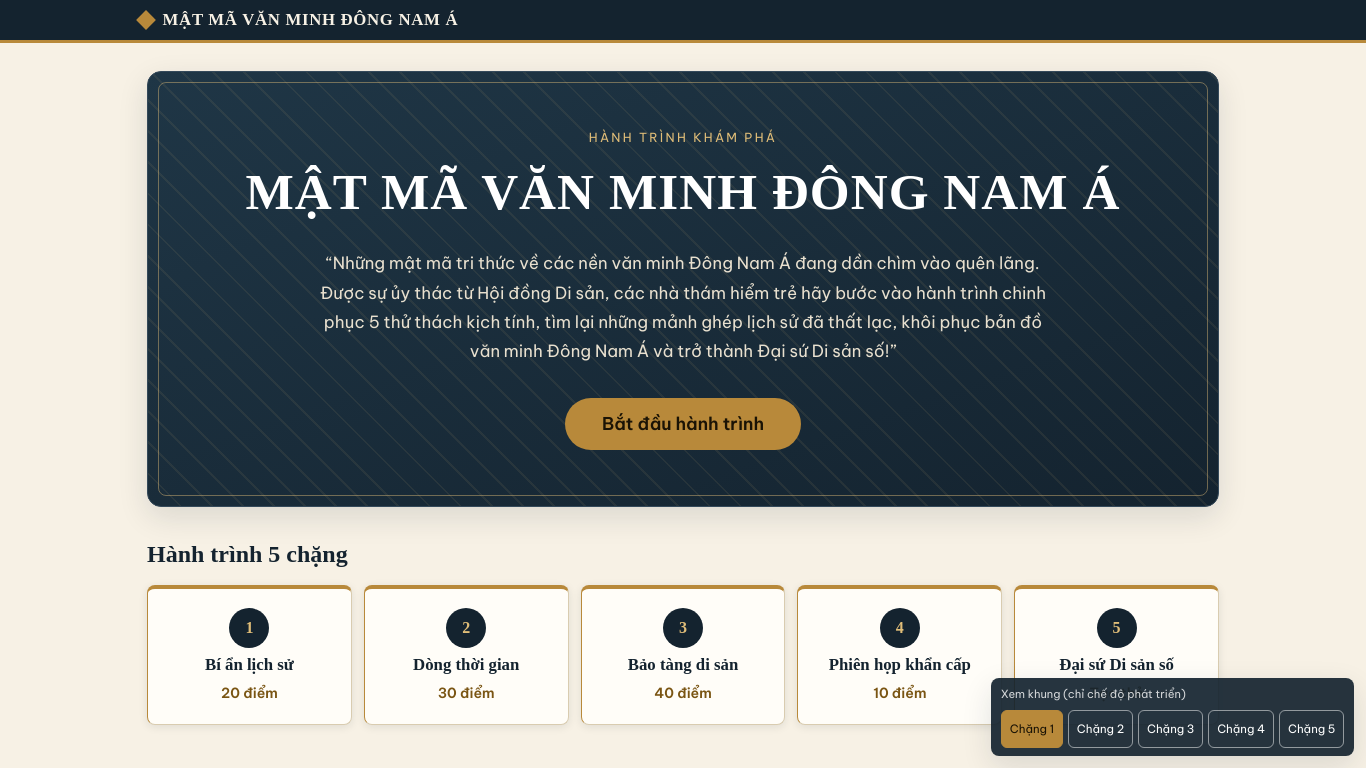
Test case: Chặng 5 - Bước 2 và kiểm tra hợp lệ › để trống: hiện lỗi mật mã, lỗi hành động và thông báo chung
Click the button "Chặng 5" at (1312, 729), box [1279,710,1344,748]
(page scrolled)
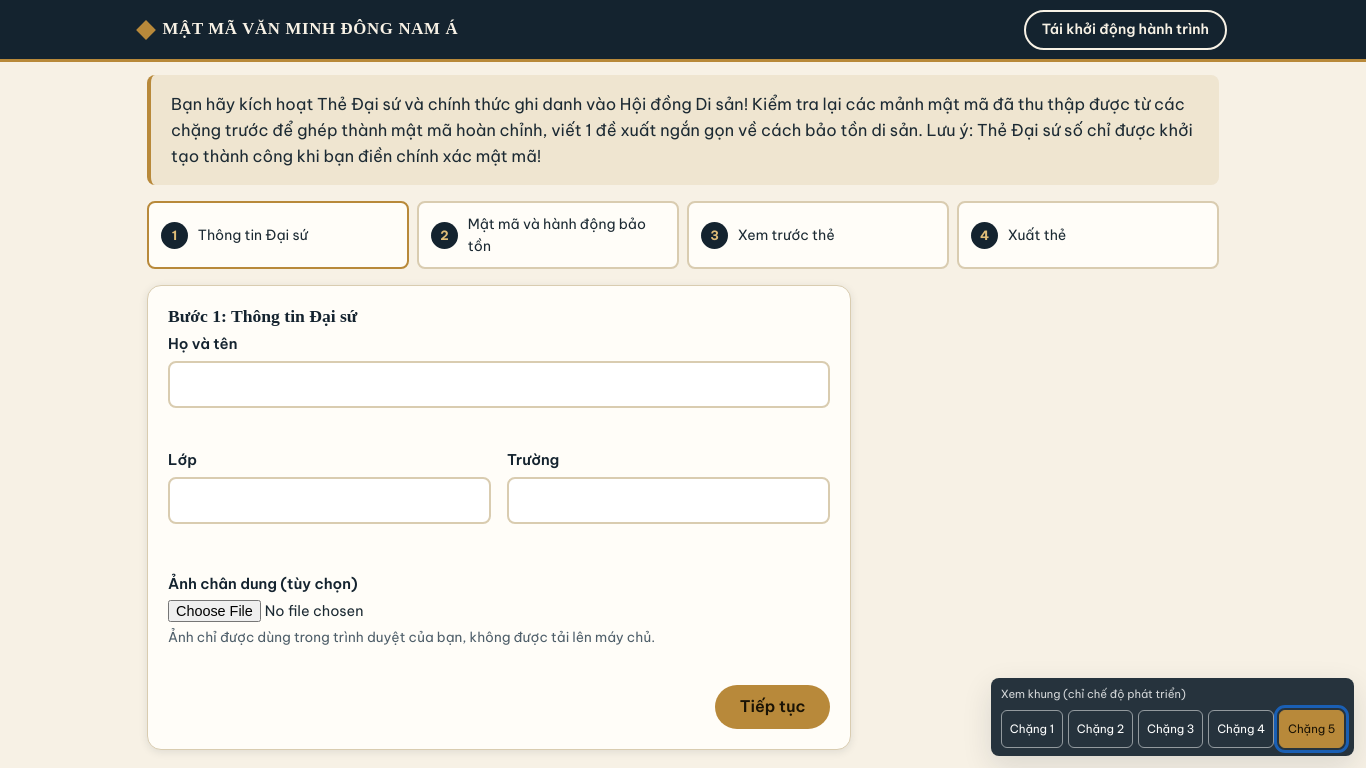
Type "Nguyễn Thị Hương" into the field labelled "Họ và tên" at (499, 384), box [168,361,830,408]
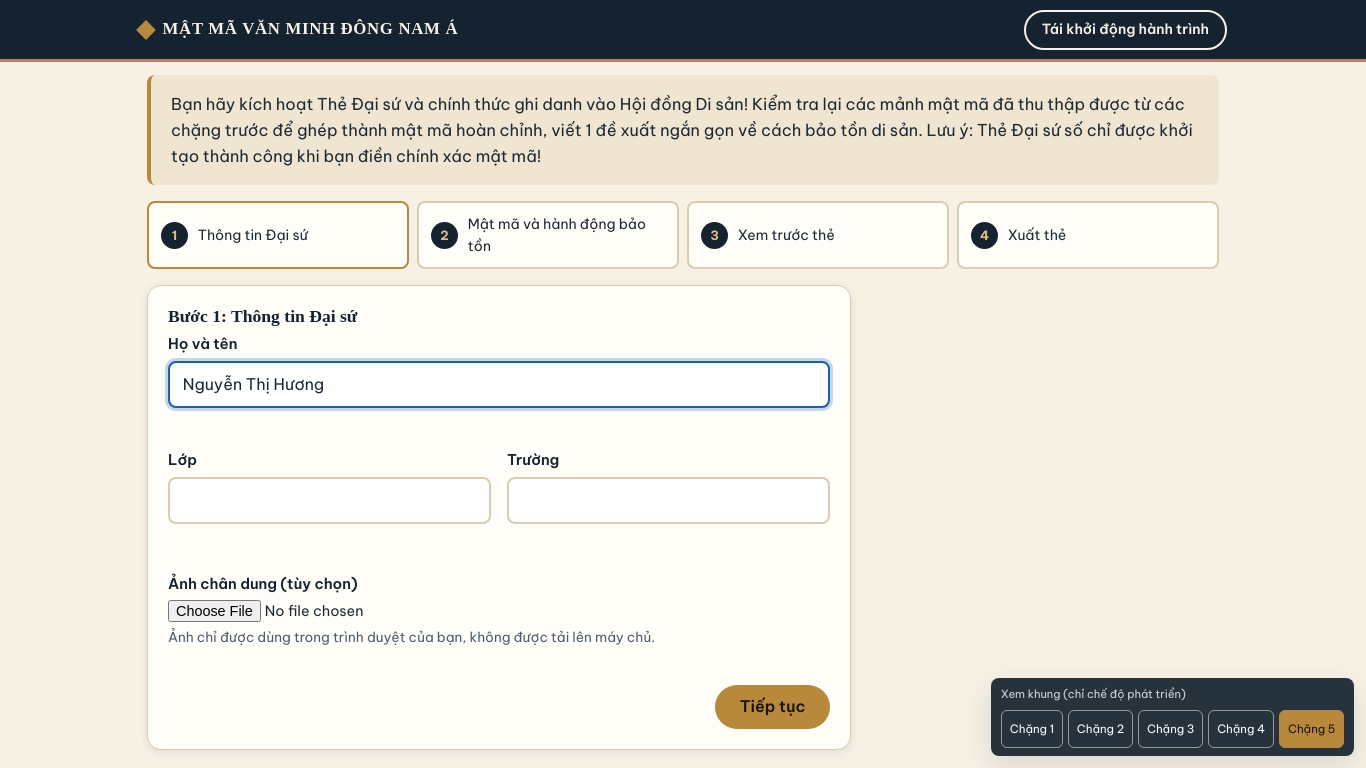
Type "12A1" into the field labelled "Lớp" at (330, 500), box [168,476,491,524]
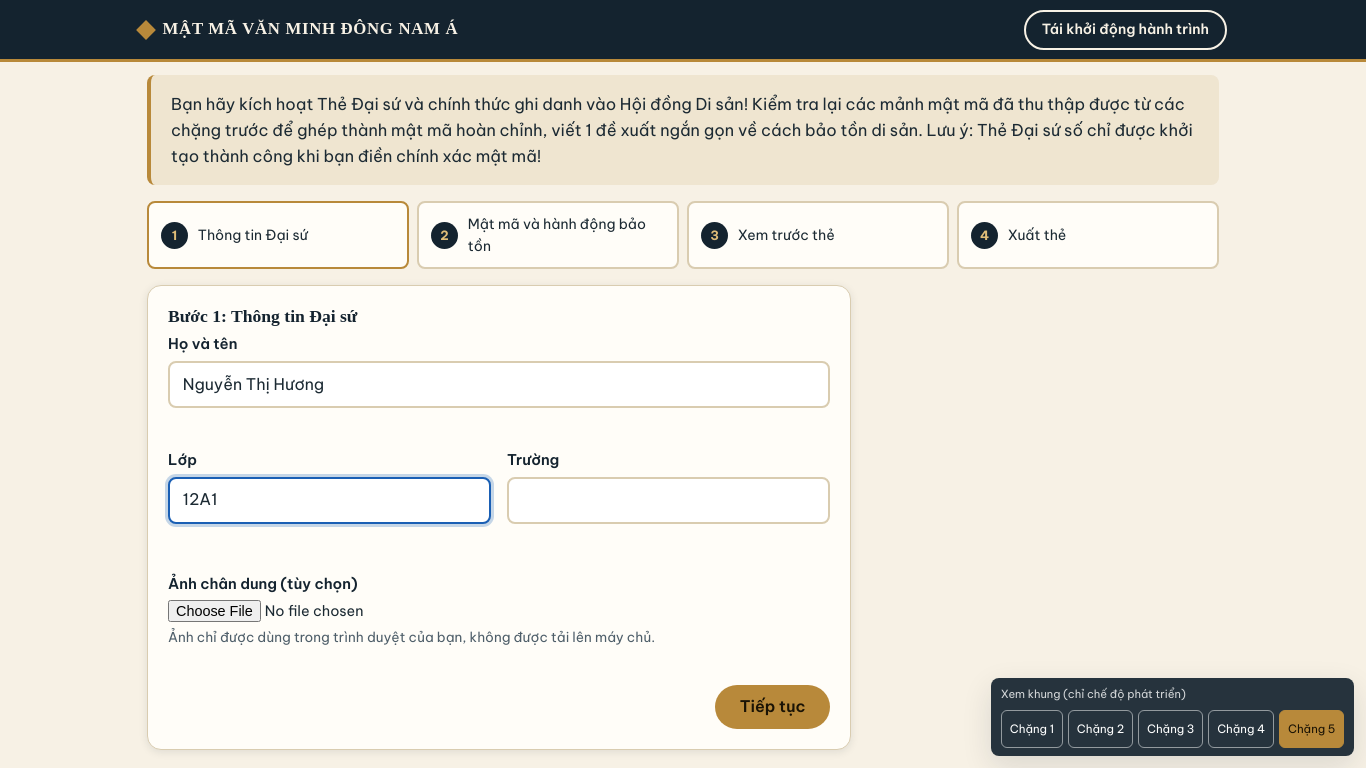
Type "THPT Chuyên Chu Văn An" into the field labelled "Trường" at (668, 500), box [507,476,830,524]
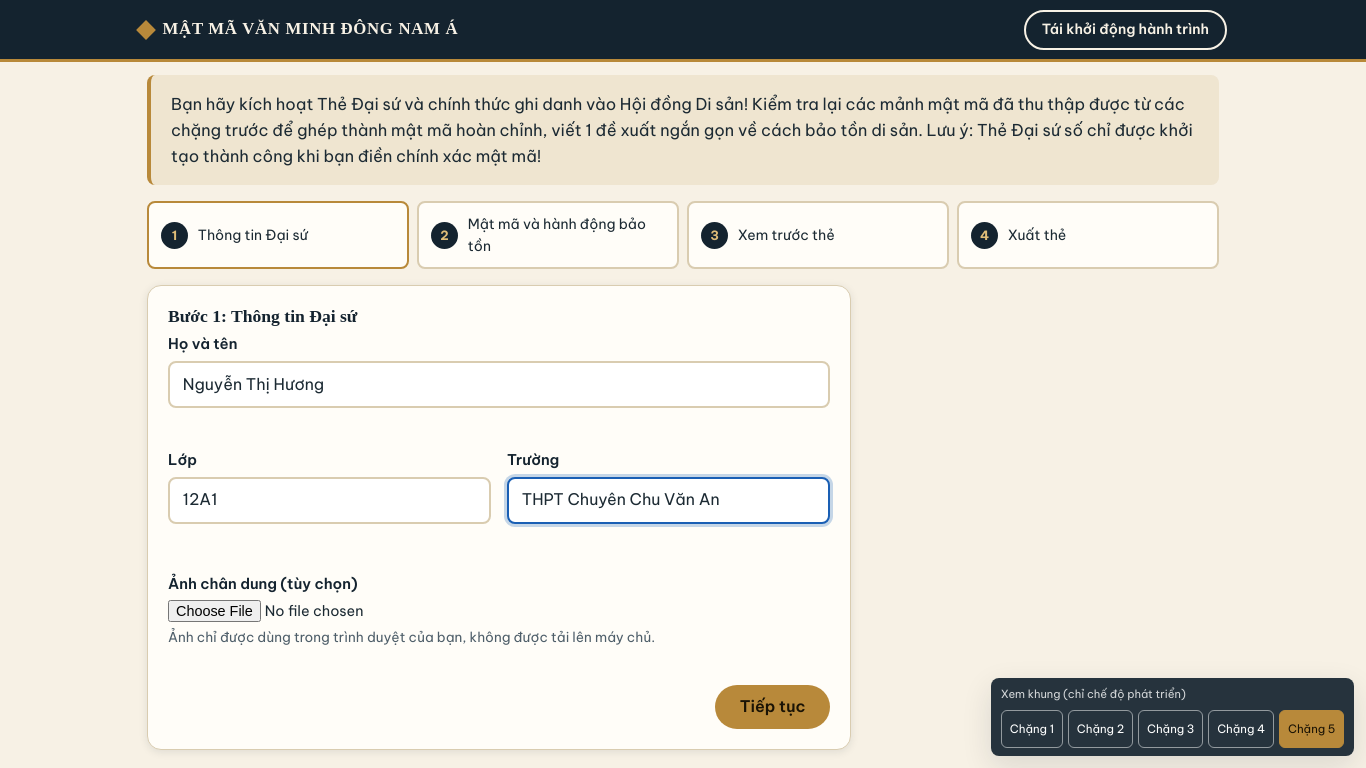
Click the button "Tiếp tục" at (773, 707), box [715,685,830,729]
(page scrolled)
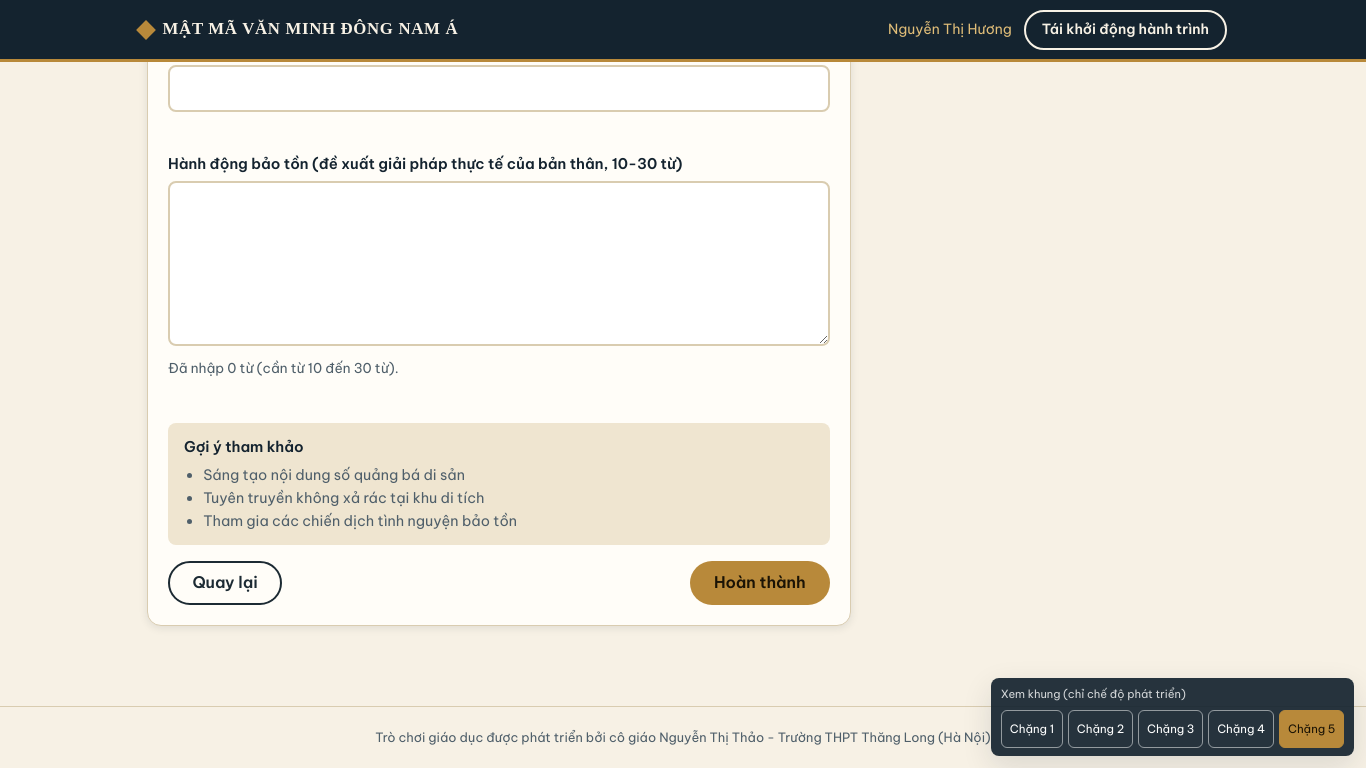
Click the button "Hoàn thành" at (760, 583), box [690,561,830,605]
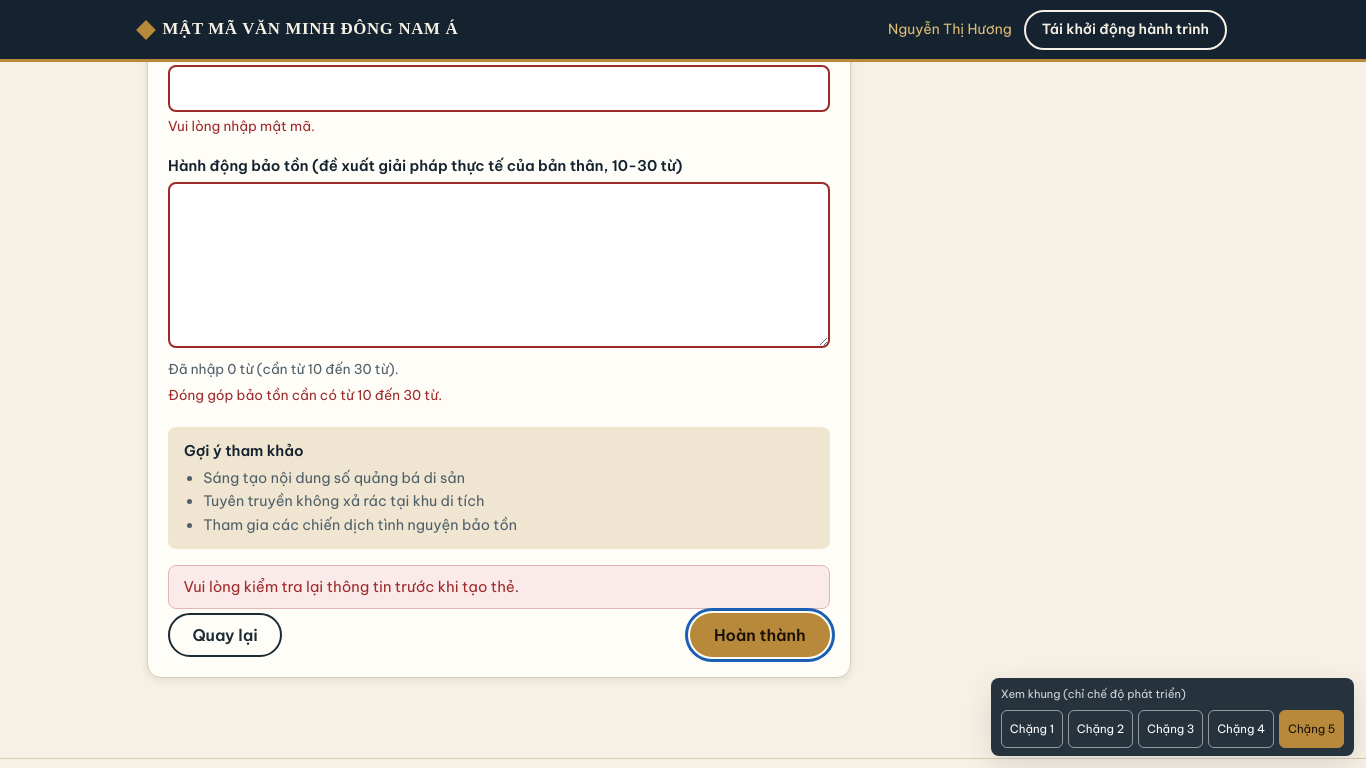
Check: the message "Vui lòng nhập mật mã." is shown, box [168,117,315,135]
Check: the message "Đóng góp bảo tồn cần có từ 10 đến 30 từ." is shown, box [168,386,442,404]
Check: the message "Vui lòng kiểm tra lại thông tin trước khi tạo thẻ." is shown, box [168,564,830,609]
